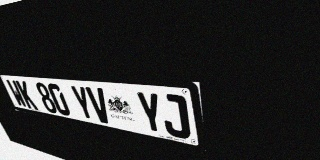0: (46, 83, 72, 116)
8: (34, 82, 59, 114)
J: (159, 93, 191, 140)
K: (15, 80, 38, 110)
V: (85, 87, 113, 125)
W: (6, 79, 28, 108)
Y: (135, 91, 166, 135), (69, 85, 96, 121)
